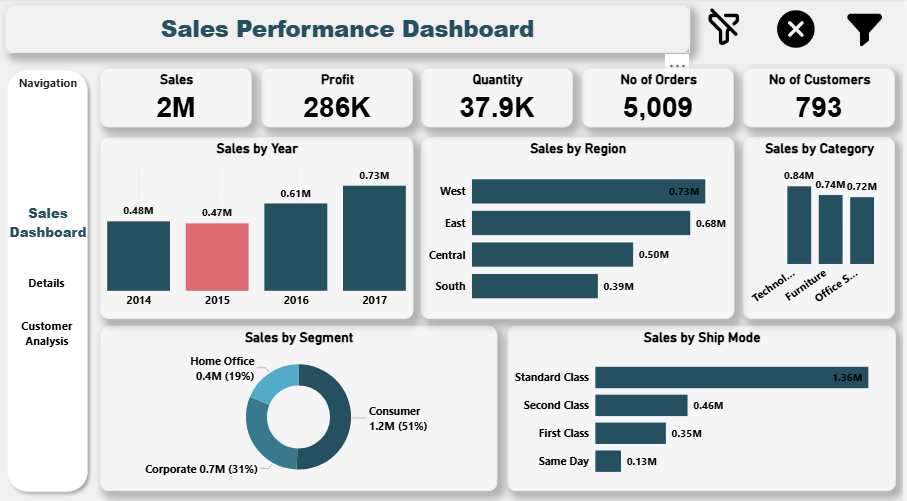

Layout of this report page (visuals, bound fields, positions):
{"tool":"powerbi","page":{"name":"Sales Per Dashboard","canvas":[1280,720],"ordinal":0},"visuals":[{"type":"textbox","box":[8.5,9.9,970.9,68],"z":0},{"type":"shape","box":[2.9,93.5,131.8,615.1],"z":0,"group":"g3"},{"type":"card","title":"Sales","fields":{"Values":["All_Measures.Sales"]},"box":[143.1,99.2,215.4,83.6],"z":0,"group":"g1"},{"type":"card","fields":{"Values":["All_Measures.Sales Arrow"]},"box":[299,99.2,62.4,42.5],"z":1000,"group":"g1"},{"type":"card","title":"Profit","fields":{"Values":["All_Measures.Profit"]},"box":[371,99.2,215.4,83.6],"z":1000},{"type":"textbox","box":[18.5,103.4,102,41.1],"z":1000,"group":"g3"},{"type":"card","title":"Quantity","fields":{"Values":["All_Measures.Quantity"]},"box":[598.8,99.2,215.4,83.6],"z":2000},{"type":"card","fields":{"Values":["All_Measures.% Var LY_Sales"]},"box":[284.6,141.4,76.5,41.1],"z":2000,"group":"g1"},{"type":"actionButton","box":[1.7,275.6,136.1,85],"z":2000,"group":"g3"},{"type":"card","title":"No of Orders","fields":{"Values":["All_Measures.No of Orders"]},"box":[826.7,99.2,215.4,83.6],"z":3000},{"type":"actionButton","box":[4.3,383.2,125.9,40],"z":3000,"group":"g3"},{"type":"card","title":"No of Customers","fields":{"Values":["All_Measures.No of Customers"]},"box":[1054.5,99.2,215.4,83.6],"z":4000},{"type":"actionButton","box":[7.2,444.7,121.6,60.1],"z":4000,"group":"g3"},{"type":"columnChart","fields":{"Y":["All_Measures.Sales"],"Category":["Calendar.Year"]},"box":[143.1,197,443.6,258],"z":5000},{"type":"clusteredBarChart","fields":{"Category":["Dim_Region.Region"],"Y":["All_Measures.Sales"]},"box":[598.1,197,443.6,258],"z":6000},{"type":"columnChart","fields":{"Y":["All_Measures.Sales"],"Category":["Dim_Products.Category"]},"box":[1054.5,197,215.4,258],"z":7000},{"type":"clusteredBarChart","fields":{"Y":["All_Measures.Sales"],"Category":["Fact_Orders.Ship Mode"]},"box":[720,464.9,551.3,233.9],"z":8000},{"type":"donutChart","fields":{"Y":["All_Measures.Sales"],"Category":["Dim_Customers.Segment"]},"box":[143.1,464.9,562.7,233.9],"z":9000},{"type":"group","id":"g1","title":"Group 1","box":[143.1,99.2,218.3,83.6],"z":10000},{"type":"image","box":[1184.7,10.4,83.3,68.5],"z":12000},{"type":"image","box":[1082,10.4,95.3,68.5],"z":13000},{"type":"image","box":[979.3,10.4,95.3,68.5],"z":14000},{"type":"group","id":"g2","title":"Group 2","box":[1054.5,99.2,225.4,599.5],"z":15000},{"type":"group","id":"g3","title":"Group 3","box":[1.7,93.5,136.1,615.1],"z":16000},{"type":"actionButton","box":[752.6,9.9,226.8,68],"z":17000}]}

Visuals, with their boxes in screenshot pixels (x1, y1, x2, y2), scaled from the page's 1280x720 canvas onto the 907x501 screenshot:
textbox: [6,7,694,54]
shape: [2,65,95,493]
"Sales" card: [101,69,254,127]
card - All_Measures.Sales Arrow: [212,69,256,99]
"Profit" card: [263,69,416,127]
textbox: [13,72,85,101]
"Quantity" card: [424,69,577,127]
card - All_Measures.% Var LY_Sales: [202,98,256,127]
actionButton: [1,192,98,251]
"No of Orders" card: [586,69,738,127]
actionButton: [3,267,92,294]
"No of Customers" card: [747,69,900,127]
actionButton: [5,309,91,351]
columnChart - All_Measures.Sales x Calendar.Year: [101,137,416,317]
clusteredBarChart - Dim_Region.Region x All_Measures.Sales: [424,137,738,317]
columnChart - All_Measures.Sales x Dim_Products.Category: [747,137,900,317]
clusteredBarChart - All_Measures.Sales x Fact_Orders.Ship Mode: [510,323,901,486]
donutChart - All_Measures.Sales x Dim_Customers.Segment: [101,323,500,486]
"Group 1" group: [101,69,256,127]
image: [839,7,898,55]
image: [767,7,834,55]
image: [694,7,761,55]
"Group 2" group: [747,69,906,486]
"Group 3" group: [1,65,98,493]
actionButton: [533,7,694,54]
